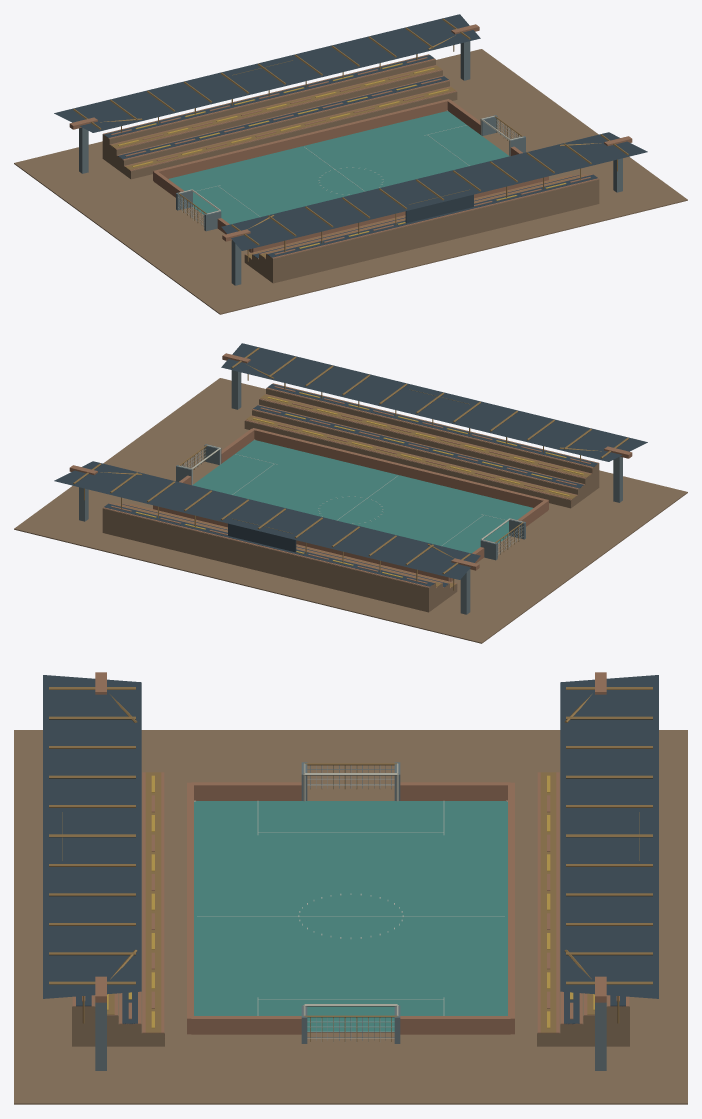
Rendered from copper-bowl.glb.
3 views of the same model, one above another, from view 1: azimuth 30°, elevation 25°; view 2: azimuth 150°, elevation 25°; view 3: azimuth 270°, elevation 25° (orthographic). The views are drawn at different scales.
Parts seen in each view (by area): view 1: batch.sandstone, batch.charcoal, batch.pitch, batch.copper, batch.bronze, batch.iron, batch.safety-yellow; view 2: batch.sandstone, batch.charcoal, batch.pitch, batch.copper, batch.bronze, batch.iron, batch.safety-yellow; view 3: batch.sandstone, batch.pitch, batch.charcoal, batch.copper, batch.bronze, batch.iron, batch.hazard-white, batch.salt, batch.safety-yellow, batch.field-line.
Part boxes in pixels (x1,y1,x2,y2): batch.sandstone: (14, 49, 687, 314); batch.charcoal: (54, 14, 647, 258); batch.pitch: (168, 111, 509, 224); batch.copper: (69, 24, 632, 259); batch.bronze: (73, 18, 628, 261); batch.iron: (79, 41, 622, 285); batch.safety-yellow: (118, 63, 566, 248); batch.sandstone: (14, 378, 687, 643); batch.charcoal: (54, 343, 647, 587); batch.pitch: (192, 440, 533, 553); batch.copper: (69, 353, 632, 588); batch.bronze: (73, 347, 628, 590); batch.iron: (79, 370, 622, 614); batch.safety-yellow: (135, 392, 583, 577); batch.sandstone: (14, 730, 687, 1104); batch.pitch: (194, 801, 507, 1031); batch.charcoal: (43, 675, 658, 1024); batch.copper: (72, 672, 629, 1034); batch.bronze: (49, 687, 652, 1041); batch.iron: (95, 762, 606, 1070); batch.hazard-white: (194, 763, 507, 1042); batch.salt: (307, 765, 394, 1040); batch.safety-yellow: (107, 775, 594, 1028); batch.field-line: (197, 801, 504, 1015).
Bounding box in the file's own units: 152 × 15.92 × 116.
